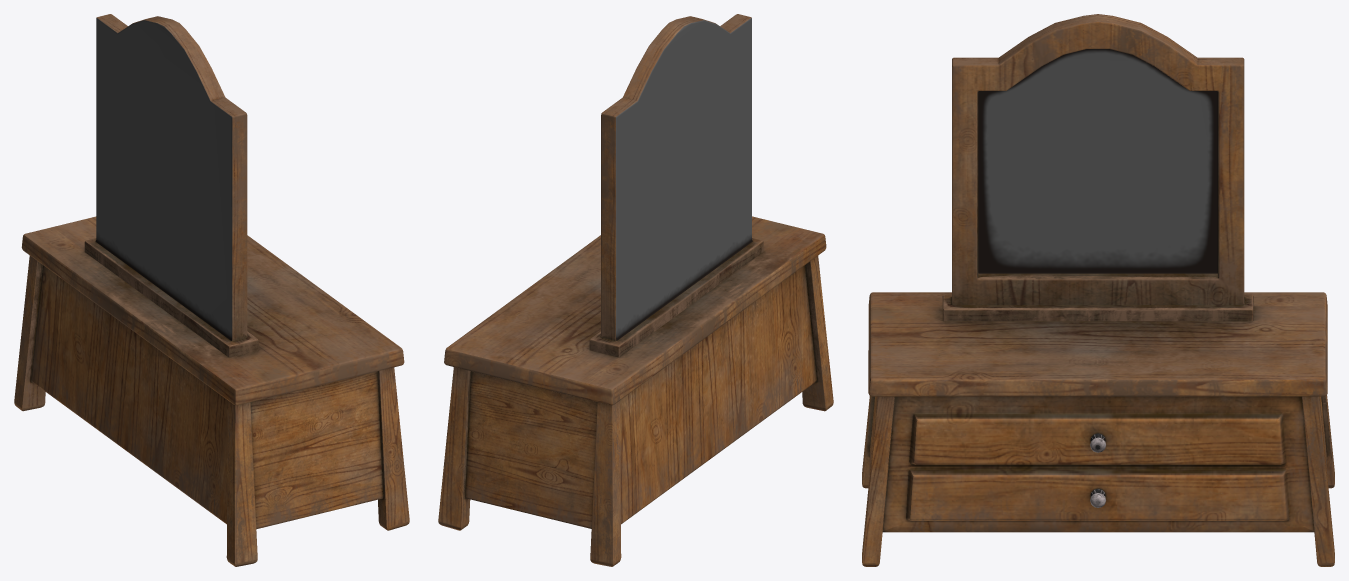
Rendered from dresser.glb.
3 renders of one model, left to right at view 1: azimuth 30°, elevation 25°; view 2: azimuth 150°, elevation 25°; view 3: azimuth 270°, elevation 25°, orthographic. The views are drawn at different scales.
Parts seen in each view (by area): view 1: Object_2; view 2: Object_2; view 3: Object_2.
Boxes of the visible parts, bbox=[...] form: Object_2: bbox=[14, 14, 409, 566]; Object_2: bbox=[438, 14, 833, 566]; Object_2: bbox=[862, 14, 1334, 566].
Size of the model in its own units: 11.65 by 26.79 by 23.64.
1 material, 1 textured.
